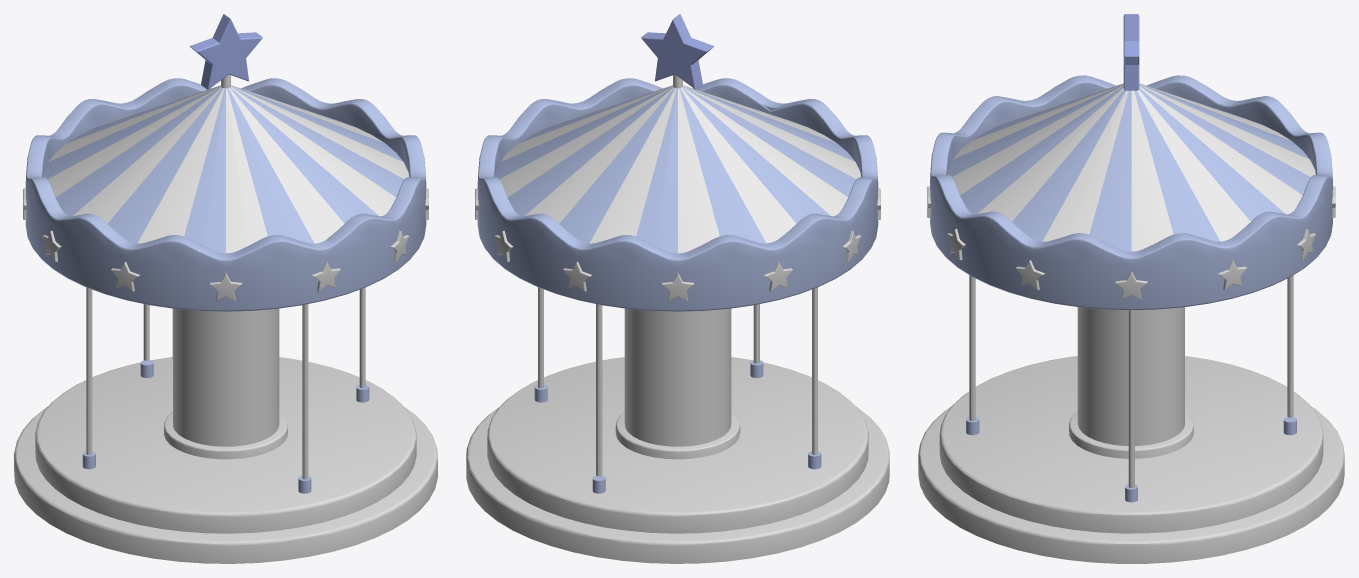
File: Carnival03.glb
3 views of the same model, side by side, from view 1: azimuth 30°, elevation 25°; view 2: azimuth 150°, elevation 25°; view 3: azimuth 270°, elevation 25° (orthographic).
Visible parts, largest first — view 1: Carnival01, Carnival02, CarnivalStar1, CarnivalStar2; view 2: Carnival01, Carnival02, CarnivalStar1, CarnivalStar2; view 3: Carnival01, Carnival02, CarnivalStar2, CarnivalStar1.
Part boxes in pixels (left/top/right/bottom): Carnival01: left=14, top=287, right=437, bottom=563; Carnival02: left=25, top=74, right=426, bottom=493; CarnivalStar1: left=190, top=14, right=262, bottom=89; CarnivalStar2: left=23, top=188, right=428, bottom=301; Carnival01: left=466, top=287, right=889, bottom=563; Carnival02: left=477, top=74, right=878, bottom=493; CarnivalStar1: left=641, top=14, right=713, bottom=89; CarnivalStar2: left=475, top=188, right=880, bottom=301; Carnival01: left=918, top=275, right=1344, bottom=563; Carnival02: left=930, top=75, right=1332, bottom=502; CarnivalStar2: left=927, top=186, right=1335, bottom=299; CarnivalStar1: left=1123, top=14, right=1139, bottom=90.
Size of the model in its own units: 1.8 by 2.14 by 1.8.
